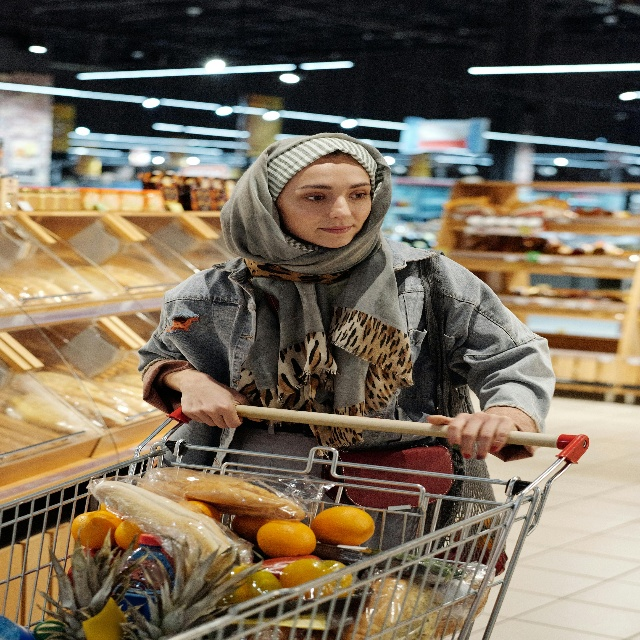Sin_guantes: (423, 404, 521, 462), (179, 376, 263, 431)
